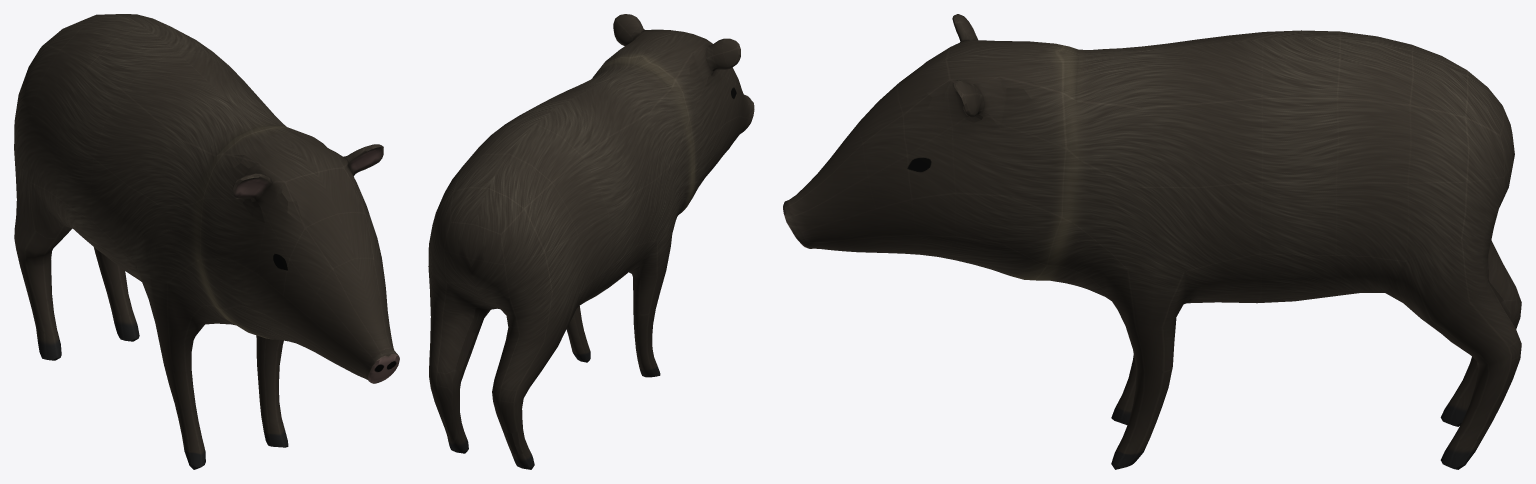
Rendered from Saino.glb.
The picture shows the model from 3 angles, left to right: view 1: azimuth 30°, elevation 25°; view 2: azimuth 150°, elevation 25°; view 3: azimuth 270°, elevation 25°; orthographic projection. The views are drawn at different scales.
Visible parts, largest first — view 1: Saino; view 2: Saino; view 3: Saino.
Part boxes in pixels (x1,y1,x2,y2): Saino: (14, 14, 399, 469); Saino: (428, 14, 754, 469); Saino: (783, 14, 1521, 469).
Bounding box in the file's own units: 0.8159 × 1.6 × 2.63.
1 material, 1 textured.
